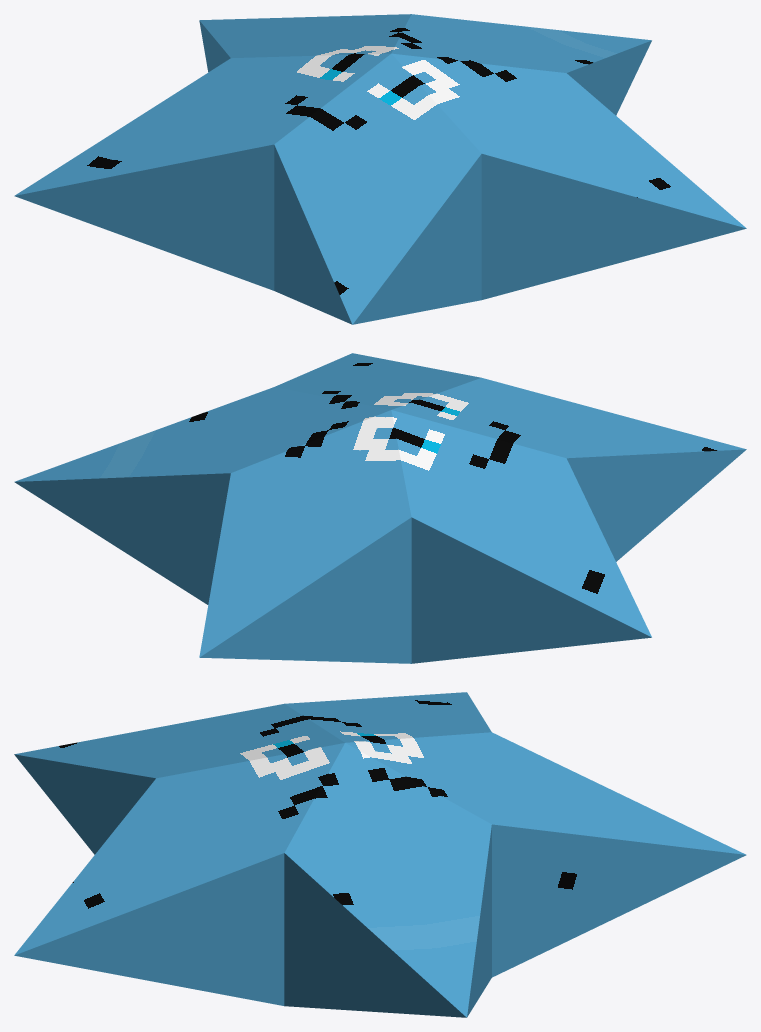
Rendered from star-character.glb.
3 renders of one model, top to bottom at view 1: azimuth 30°, elevation 25°; view 2: azimuth 150°, elevation 25°; view 3: azimuth 270°, elevation 25°, orthographic. The views are drawn at different scales.
Parts seen in each view (by area): view 1: Plane; view 2: Plane; view 3: Plane.
Boxes of the visible parts, box(x1,y1,x2,y2) form: Plane: box(14, 14, 746, 324); Plane: box(14, 353, 746, 663); Plane: box(14, 692, 746, 1017).
Bounding box in the file's own units: 5.61 × 1.8 × 5.34.
1 material, 1 textured.
